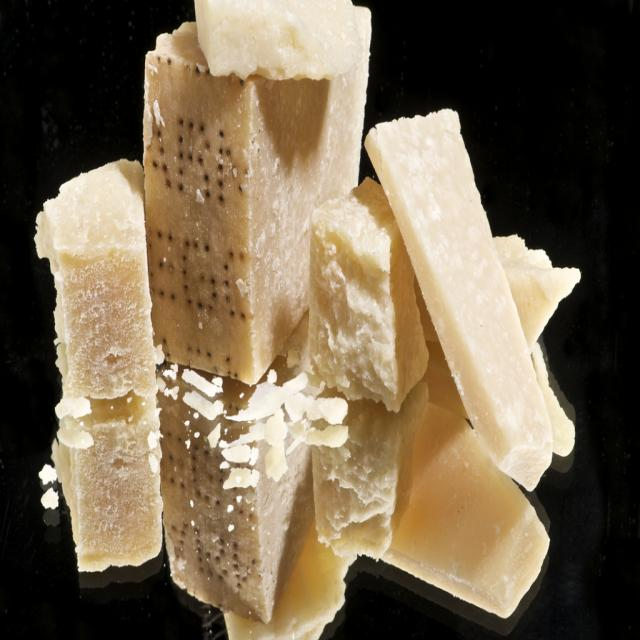Cheese: (66, 0, 612, 493), (288, 175, 571, 614), (134, 10, 381, 382), (382, 91, 556, 531), (24, 168, 186, 580)
